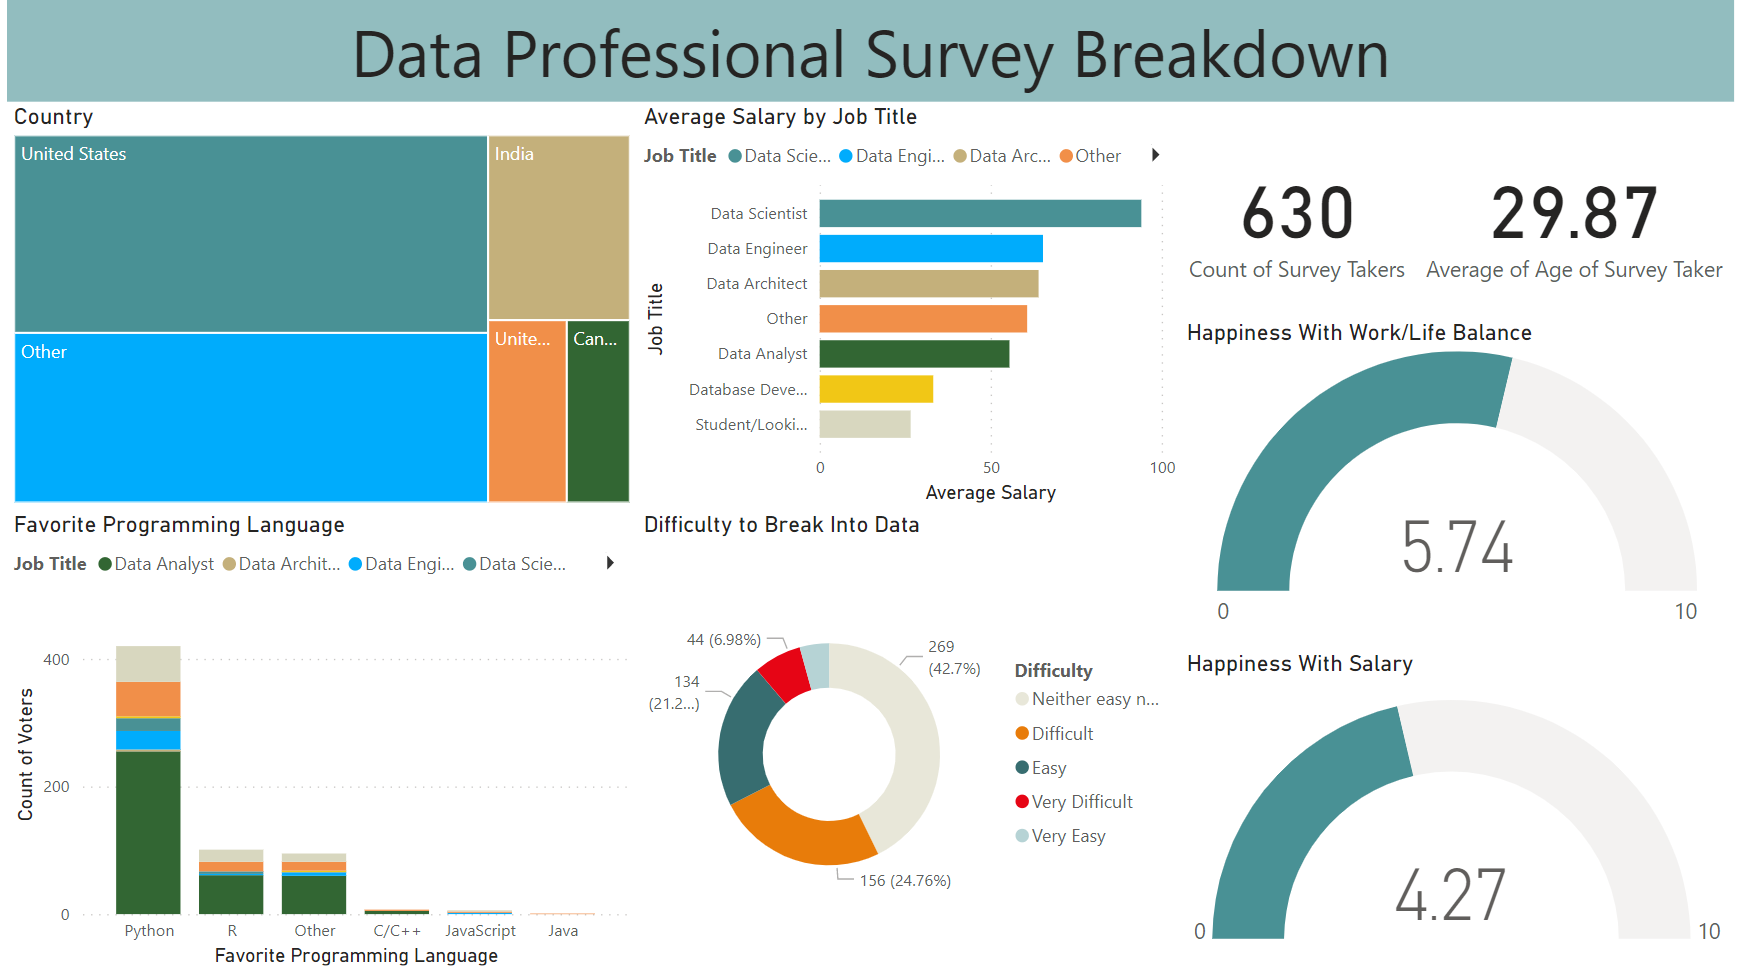

What the dashboard file says about the page in this screenshot:
{"tool":"powerbi","page":{"name":"Page 1","canvas":[1280,720],"ordinal":0},"visuals":[{"type":"textbox","box":[0,0,1279.4,75.6],"z":0},{"type":"card","fields":{"Values":["Count(Data Professional Survey.Unique ID)"]},"box":[869.4,76.3,173.2,168.5],"z":1000},{"type":"card","fields":{"Values":["Avg(Data Professional Survey.Q10 - Current Age)"]},"box":[1042.6,76.3,236.8,168.5],"z":2000},{"type":"barChart","title":"Average Salary by Job Title","fields":{"Category":["Data Professional Survey.Q1 - Which Title Best Fits your Current Role?.1"],"Y":["Avg(Data Professional Survey.Average Salary)"],"Series":["Data Professional Survey.Q1 - Which Title Best Fits your Current Role?.1"]},"box":[466.3,75.8,403.4,301.7],"z":2001},{"type":"columnChart","title":"Favorite Programming Language","fields":{"Category":["Data Professional Survey.Q5 - Favorite Programming Language.1"],"Y":["CountNonNull(Data Professional Survey.Unique ID)"],"Series":["Data Professional Survey.Q1 - Which Title Best Fits your Current Role?.1"]},"box":[0,377.5,466.3,342.1],"z":2002},{"type":"treemap","title":"Country","fields":{"Group":["Data Professional Survey.Q11 - Which Country do you live in?.1"],"Values":["CountNonNull(Data Professional Survey.Q11 - Which Country do you live in?.1)"]},"box":[0,75.8,466.3,301.7],"z":2003},{"type":"gauge","title":"Happiness With Work/Life Balance","fields":{"Y":["Avg(Data Professional Survey.Q6 - How Happy are you in your Current Position with the following? (Work/Life Balance))"],"MinValue":["Min(Data Professional Survey.Q6 - How Happy are you in your Current Position with the following? (Work/Life Balance))1"],"MaxValue":["Max(Data Professional Survey.Q6 - How Happy are you in your Current Position with the following? (Work/Life Balance))2"]},"box":[869.4,235.2,410.1,238.4],"z":2004},{"type":"gauge","title":"Happiness With Salary","fields":{"Y":["Avg(Data Professional Survey.Q6 - How Happy are you in your Current Position with the following? (Salary))"],"MinValue":["Min(Data Professional Survey.Q6 - How Happy are you in your Current Position with the following? (Salary))"],"MaxValue":["Max(Data Professional Survey.Q6 - How Happy are you in your Current Position with the following? (Salary))"]},"box":[869.4,481.6,410.1,236.8],"z":2005},{"type":"donutChart","title":"Difficulty to Break Into Data","fields":{"Category":["Data Professional Survey.Q7 - How difficult was it for you to break into Data?"],"Y":["CountNonNull(Data Professional Survey.Q7 - How difficult was it for you to break into Data?)"]},"box":[466.3,377.5,403.4,342.1],"z":2006}]}

Visuals, with their boxes in screenshot pixels (x1, y1, x2, y2), scaled from the page's 1280x720 canvas onto the 1741x968 screenshot:
textbox: {"left": 0, "top": 0, "right": 1740, "bottom": 102}
card - Count(Data Professional Survey.Unique ID): {"left": 1183, "top": 103, "right": 1418, "bottom": 329}
card - Avg(Data Professional Survey.Q10 - Current Age): {"left": 1418, "top": 103, "right": 1740, "bottom": 329}
"Average Salary by Job Title" barChart: {"left": 634, "top": 102, "right": 1183, "bottom": 508}
"Favorite Programming Language" columnChart: {"left": 0, "top": 508, "right": 634, "bottom": 967}
"Country" treemap: {"left": 0, "top": 102, "right": 634, "bottom": 508}
"Happiness With Work/Life Balance" gauge: {"left": 1183, "top": 316, "right": 1740, "bottom": 637}
"Happiness With Salary" gauge: {"left": 1183, "top": 647, "right": 1740, "bottom": 966}
"Difficulty to Break Into Data" donutChart: {"left": 634, "top": 508, "right": 1183, "bottom": 967}
